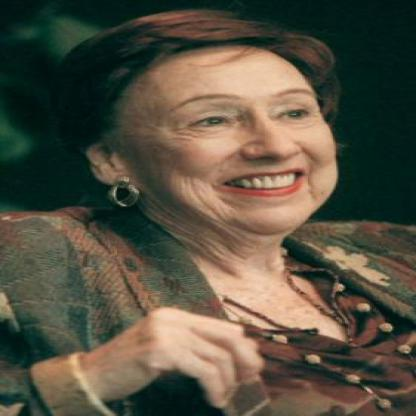face: (114, 19, 348, 242)
